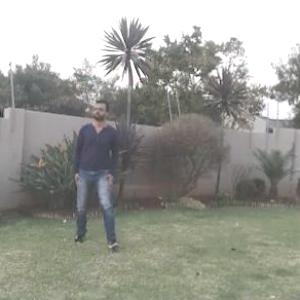follow: (68, 89, 125, 263)
